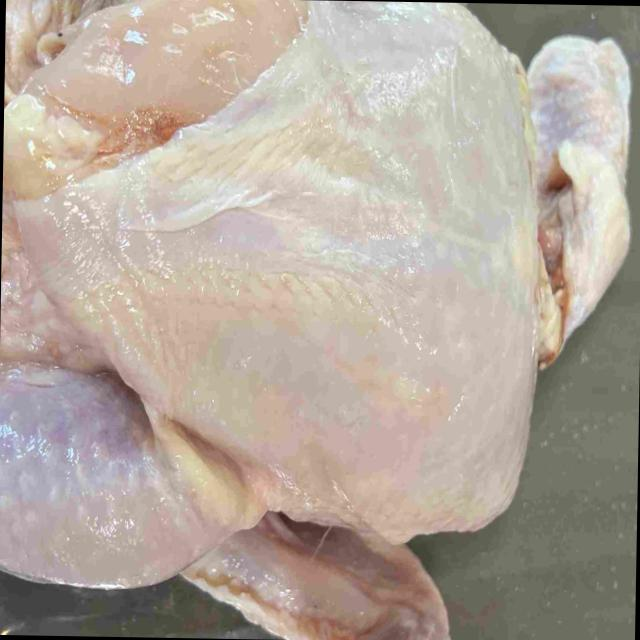breast: (2, 0, 538, 518)
leg: (0, 373, 251, 587)
neck: (527, 36, 631, 373)
wing: (190, 508, 450, 640)
